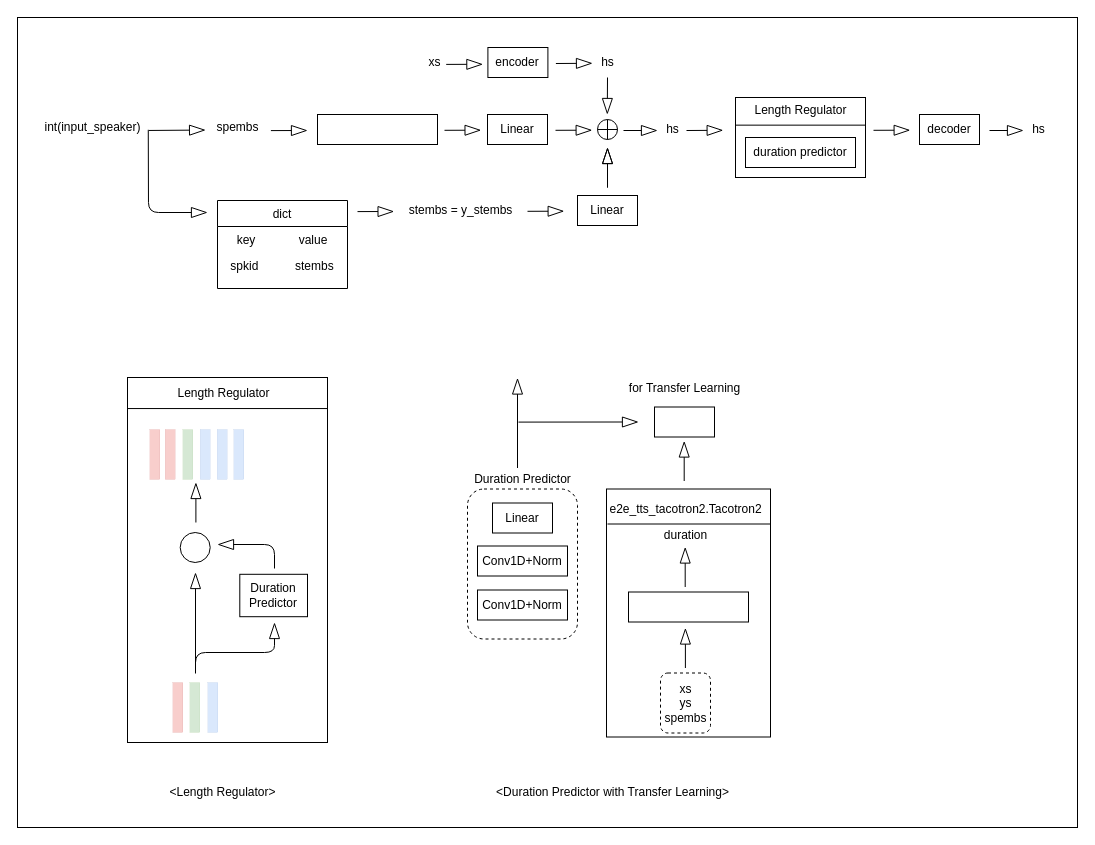
This 1095x845 diagram has some shape labels left out. The shapes that lost their labels are listed below. From the top down, each one's centre as x and y in pixels, then its label:
At point 377,129: "spk_embed_lookup".
At point 684,421: "M.S.E".
At point 194,547: "LR".
At point 688,606: "duration_calculator".
